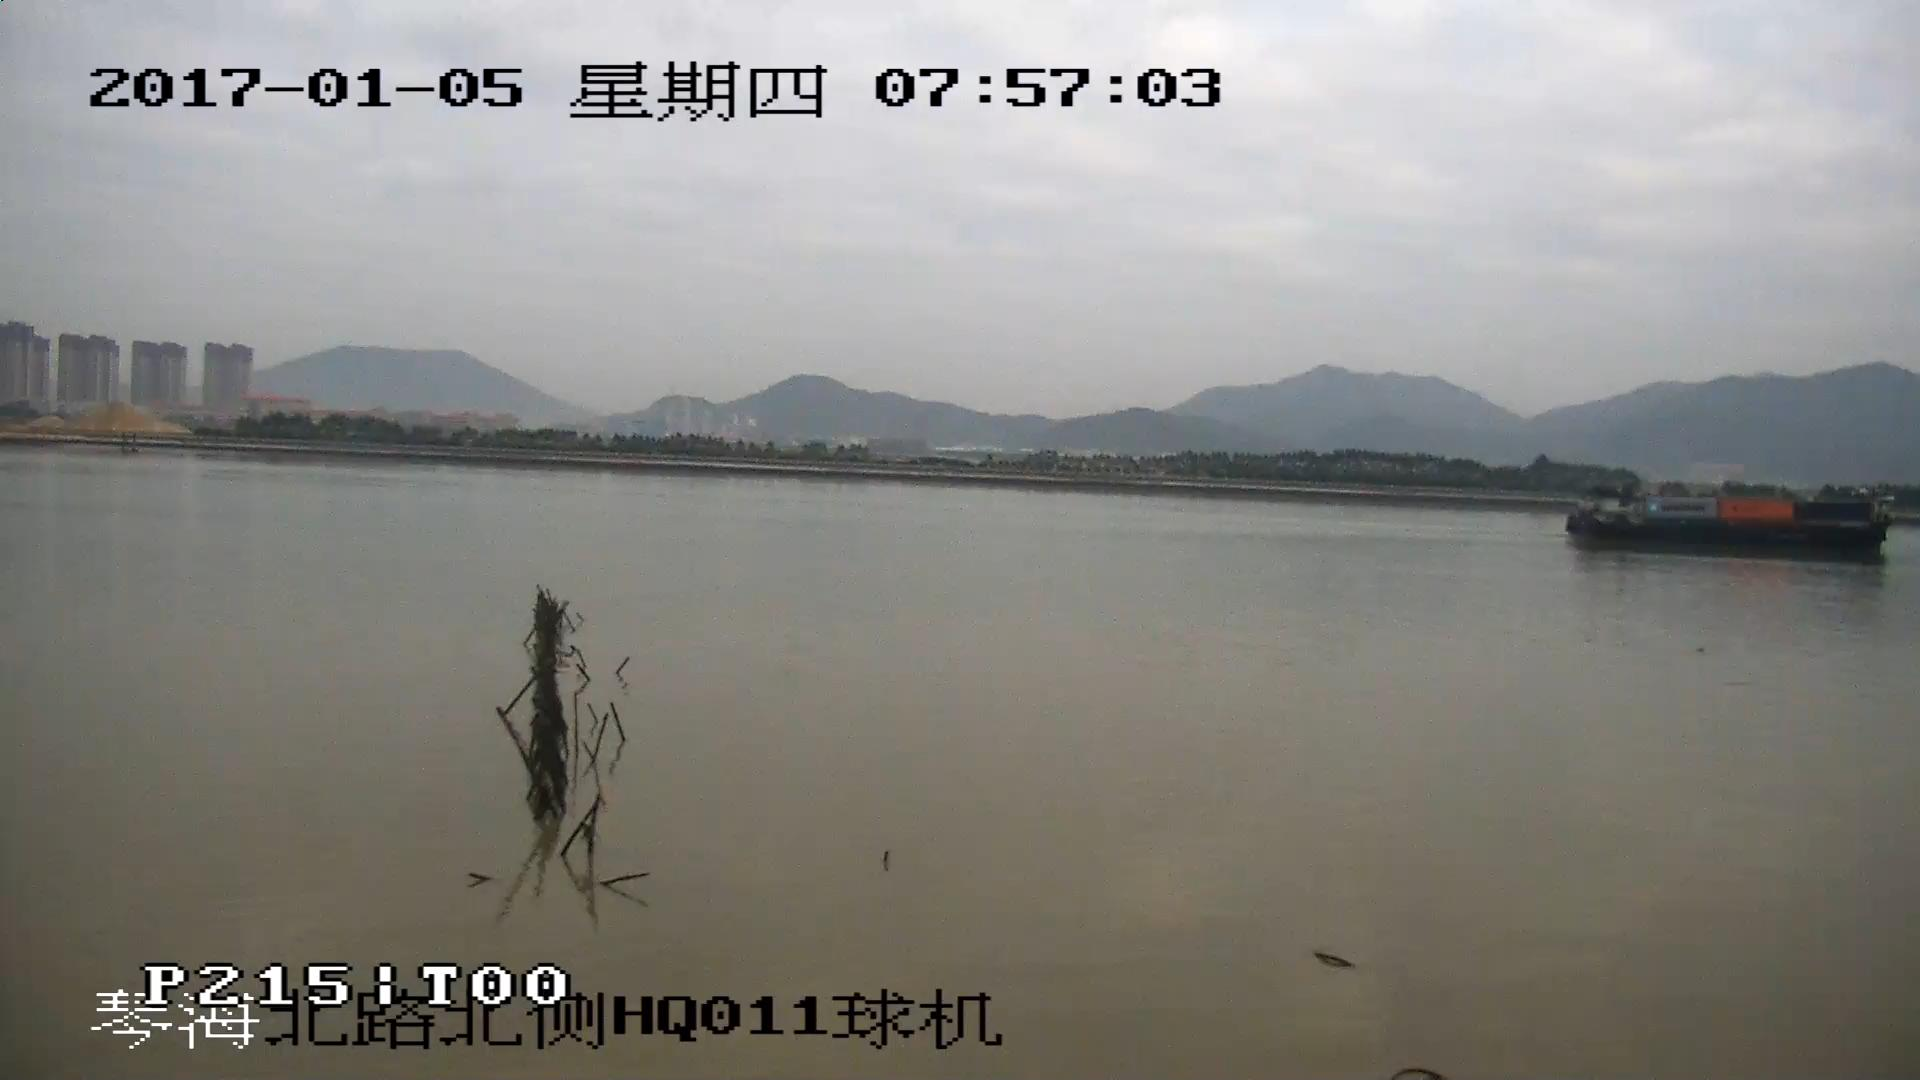container ship: (1566, 490, 1890, 557)
